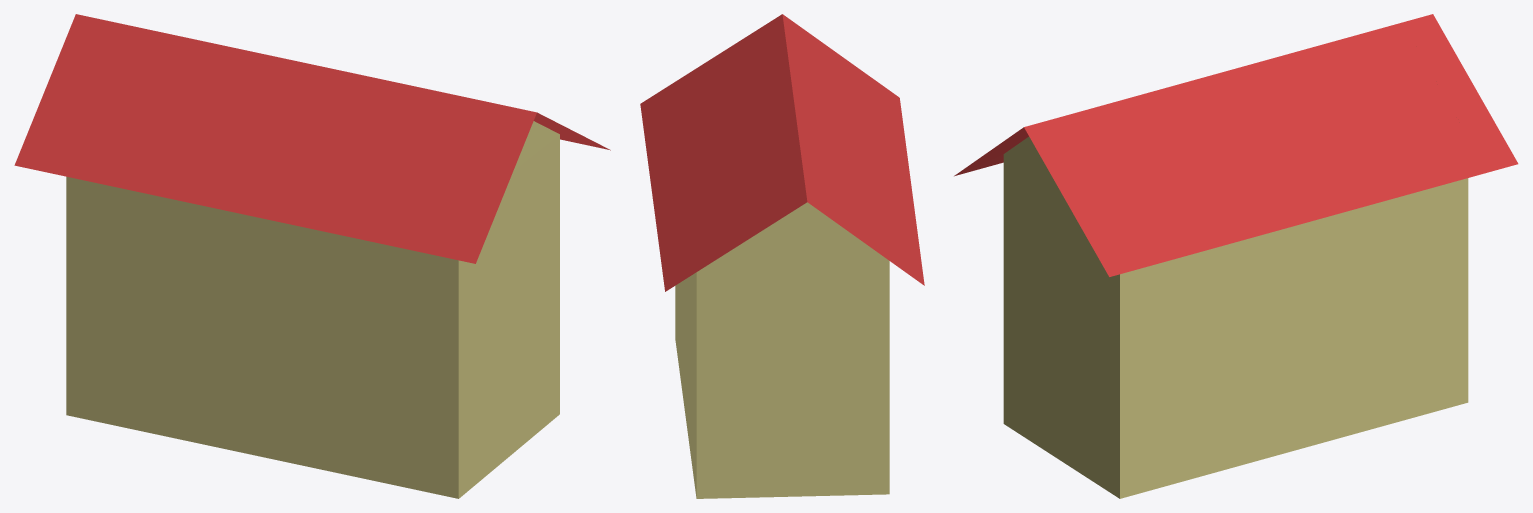
3 views of the same model, side by side, from view 1: azimuth 30°, elevation 25°; view 2: azimuth 150°, elevation 25°; view 3: azimuth 270°, elevation 25° (orthographic). The views are drawn at different scales.
Size of the model in its own units: 10.43 by 11.64 by 7.68.
